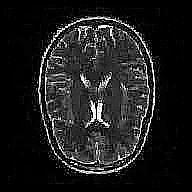Normal_Brain: (13, 13, 192, 192)
